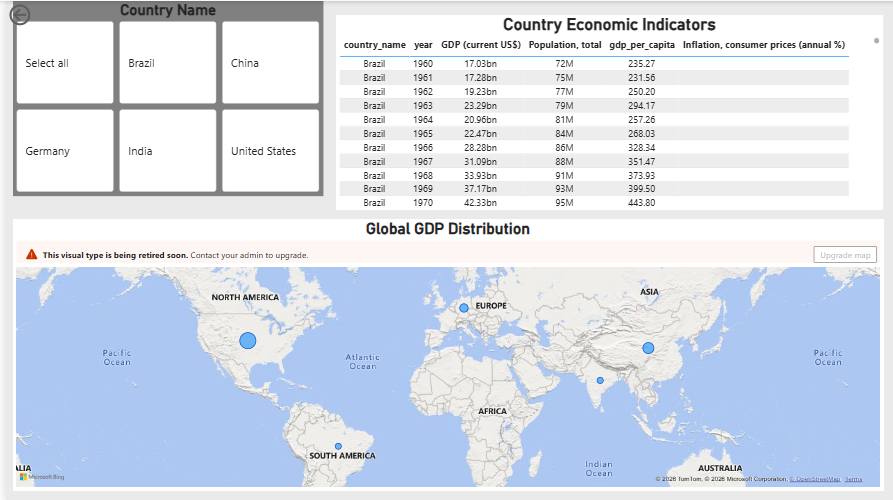

What the dashboard file says about the page in this screenshot:
{"tool":"powerbi","page":{"name":"Country Analysis","canvas":[1280,720],"ordinal":1},"visuals":[{"type":"advancedSlicerVisual","title":"Country Name","fields":{"Values":["analytical_master_dataset.country_name"]},"box":[10.1,0,446.8,280.5],"z":0},{"type":"map","fields":{"Category":["analytical_master_dataset.country_name"],"Size":["analytical_master_dataset.Total GDP"]},"box":[10.1,314.1,1253.1,391.4],"z":1000},{"type":"tableEx","fields":{"Values":["analytical_master_dataset.country_name","analytical_master_dataset.year","analytical_master_dataset.GDP (current US$)","analytical_master_dataset.Population, total","analytical_master_dataset.gdp_per_capita","analytical_master_dataset.Inflation, consumer prices (annual %)"]},"box":[475.4,20.2,787.8,280.5],"z":1001},{"type":"actionButton","box":[0,0,100,40],"z":1002}]}

Visuals, with their boxes in screenshot pixels (x1, y1, x2, y2), scaled from the page's 1280x720 canvas onto the 893x500 screenshot:
"Country Name" advancedSlicerVisual: box(7, 0, 319, 195)
map - analytical_master_dataset.country_name x analytical_master_dataset.Total GDP: box(7, 218, 881, 490)
tableEx - analytical_master_dataset.country_name x analytical_master_dataset.year: box(332, 14, 881, 209)
actionButton: box(0, 0, 70, 28)
